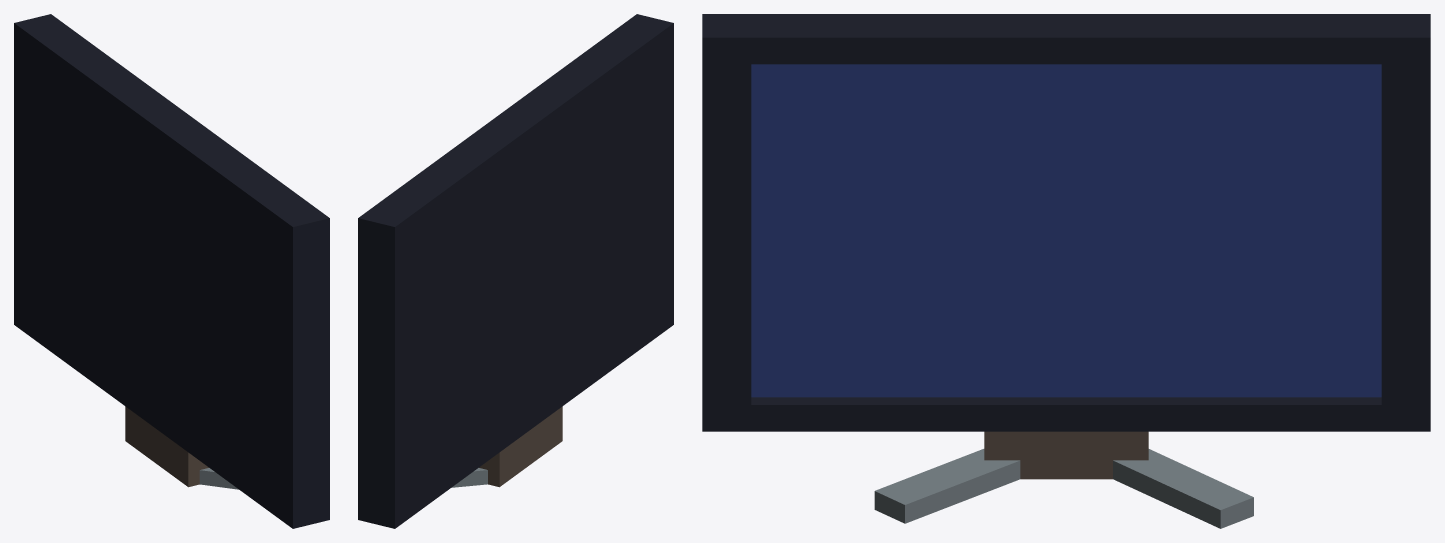
Rendered from future_tv.fbx.
The picture shows the model from 3 angles, left to right: view 1: azimuth 30°, elevation 25°; view 2: azimuth 150°, elevation 25°; view 3: azimuth 270°, elevation 25°; orthographic projection. The views are drawn at different scales.
Visible parts, largest first — view 1: tvbody; view 2: tvbody; view 3: tvbody.
Boxes of the visible parts, x1,y1,x2,y2 form: tvbody: (14,14,329,528); tvbody: (358,14,673,528); tvbody: (702,14,1430,528).
Bounding box in the file's own units: 136 × 397 × 590.
